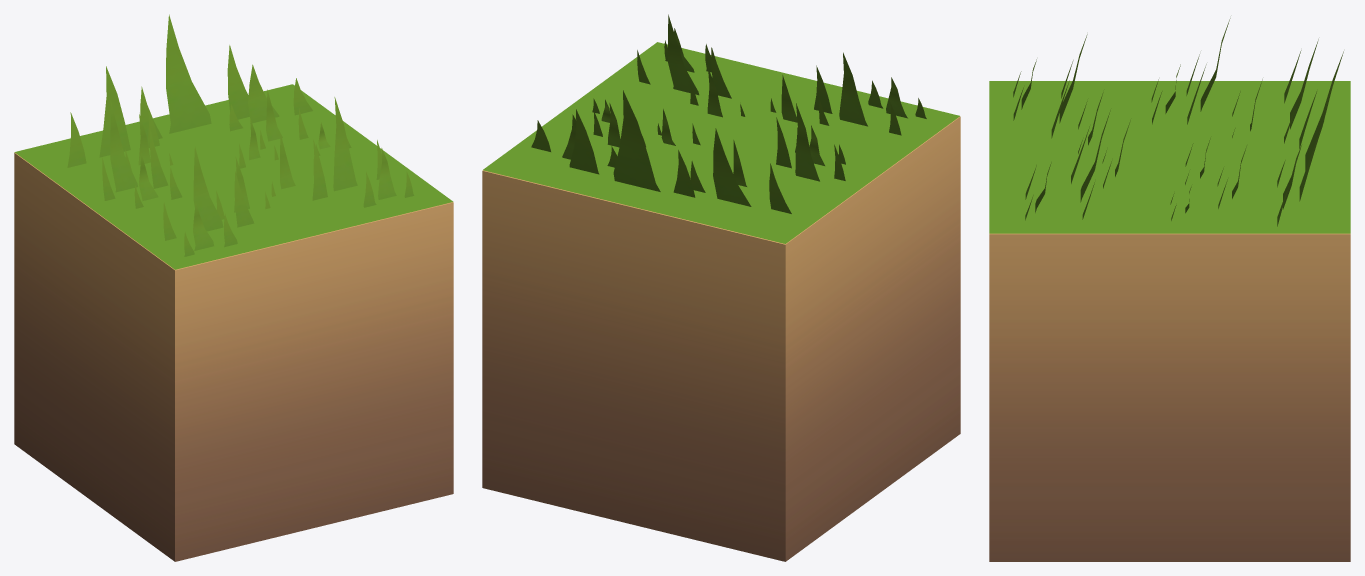
The model's file is light tile.fbx.
The picture shows the model from 3 angles, left to right: view 1: azimuth 30°, elevation 25°; view 2: azimuth 150°, elevation 25°; view 3: azimuth 270°, elevation 25°; orthographic projection. The views are drawn at different scales.
Visible parts, largest first — view 1: l_ground, l, l_grass; view 2: l_ground, l, l_grass; view 3: l_ground, l, l_grass.
Part boxes in pixels (left/top/right/bottom): l_ground: left=14, top=152, right=453, bottom=561; l: left=14, top=84, right=453, bottom=269; l_grass: left=67, top=14, right=414, bottom=256; l_ground: left=482, top=116, right=960, bottom=561; l: left=483, top=42, right=959, bottom=243; l_grass: left=531, top=14, right=926, bottom=213; l_ground: left=989, top=233, right=1350, bottom=561; l: left=989, top=81, right=1350, bottom=233; l_grass: left=1013, top=18, right=1343, bottom=226.
Bounding box in the file's own units: 10 × 13.55 × 10.
